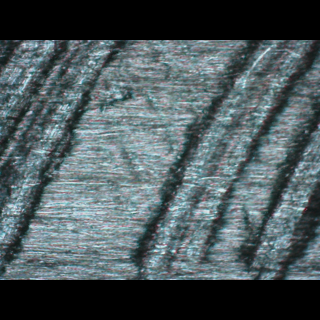d: (114, 42, 319, 277), (0, 41, 129, 274)
